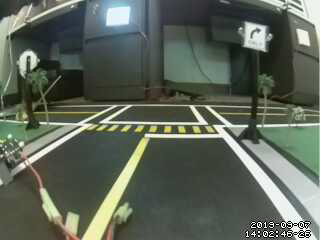Right_only_sign: (239, 19, 274, 57)
